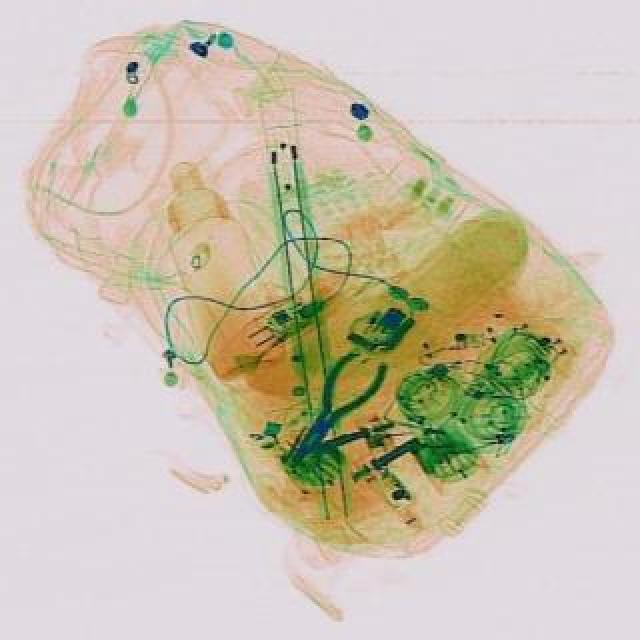wrench: (268, 342, 392, 478)
